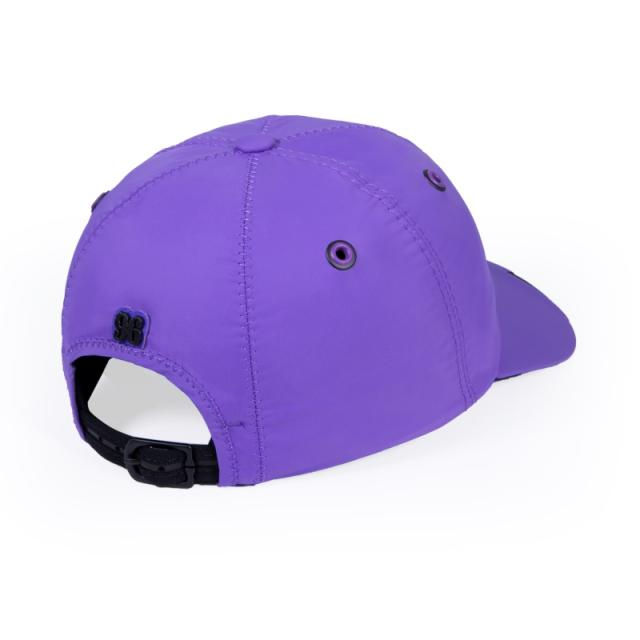no_helmet: (61, 114, 575, 489)
